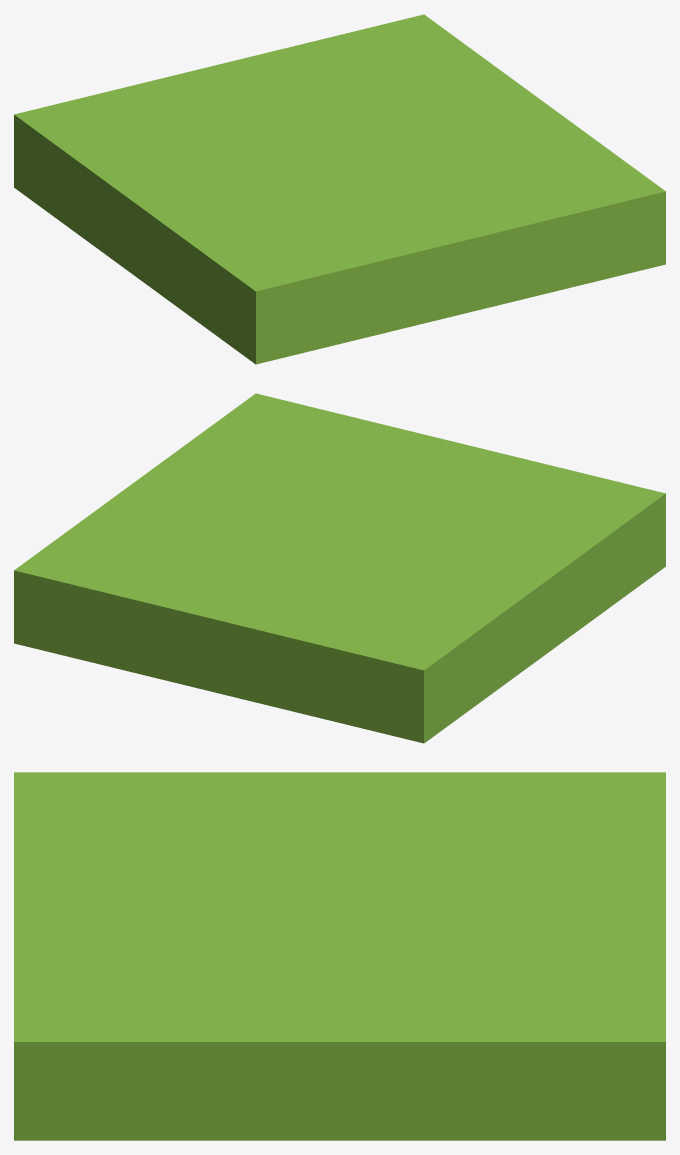
3 renders of one model, top to bottom at view 1: azimuth 30°, elevation 25°; view 2: azimuth 150°, elevation 25°; view 3: azimuth 270°, elevation 25°, orthographic. The views are drawn at different scales.
Visible parts, largest first — view 1: mesh_1537693769; view 2: mesh_1537693769; view 3: mesh_1537693769.
Boxes of the visible parts, x1,y1,x2,y2 form: mesh_1537693769: (14,14,665,364); mesh_1537693769: (14,393,665,743); mesh_1537693769: (14,772,665,1140).
Size of the model in its own units: 47 by 8 by 48.
